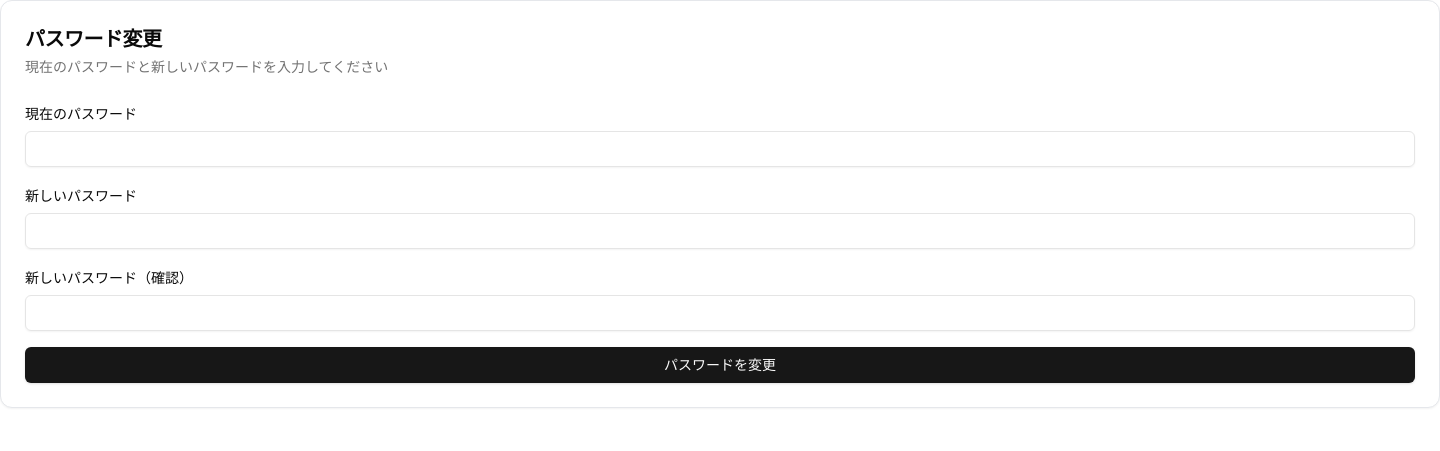
Test case: ChangePasswordForm › 新しいパスワードが数字のみの場合はエラーが表示される
Type "CurrentP1" into the password field labelled "現在のパスワード" at (720, 149), box [25,131,1415,167]
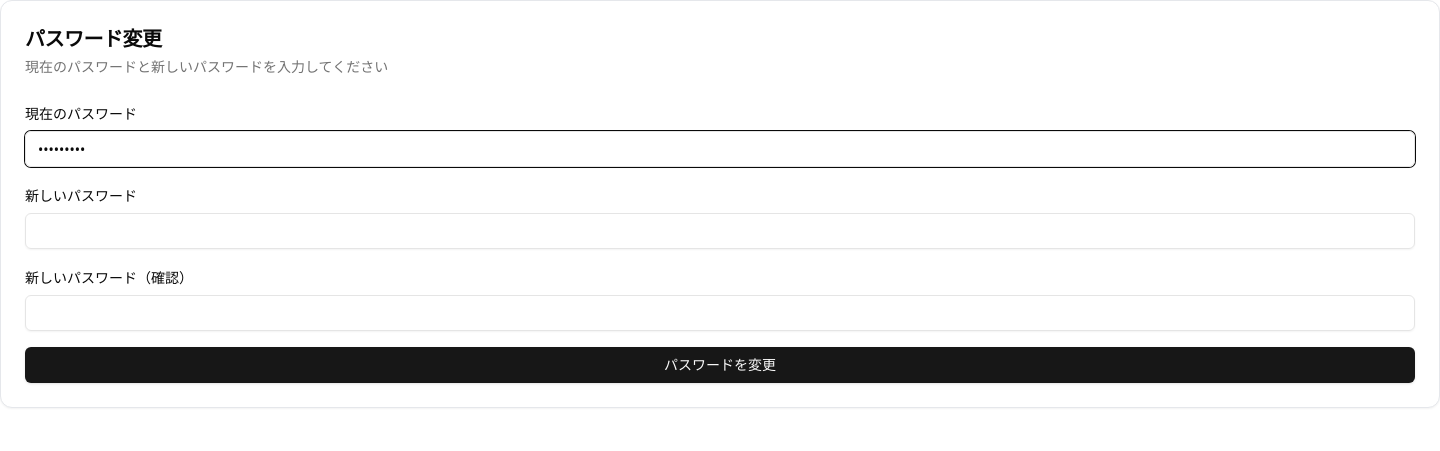
Type "12345678" into the password field labelled "新しいパスワード" at (720, 231), box [25,213,1415,249]
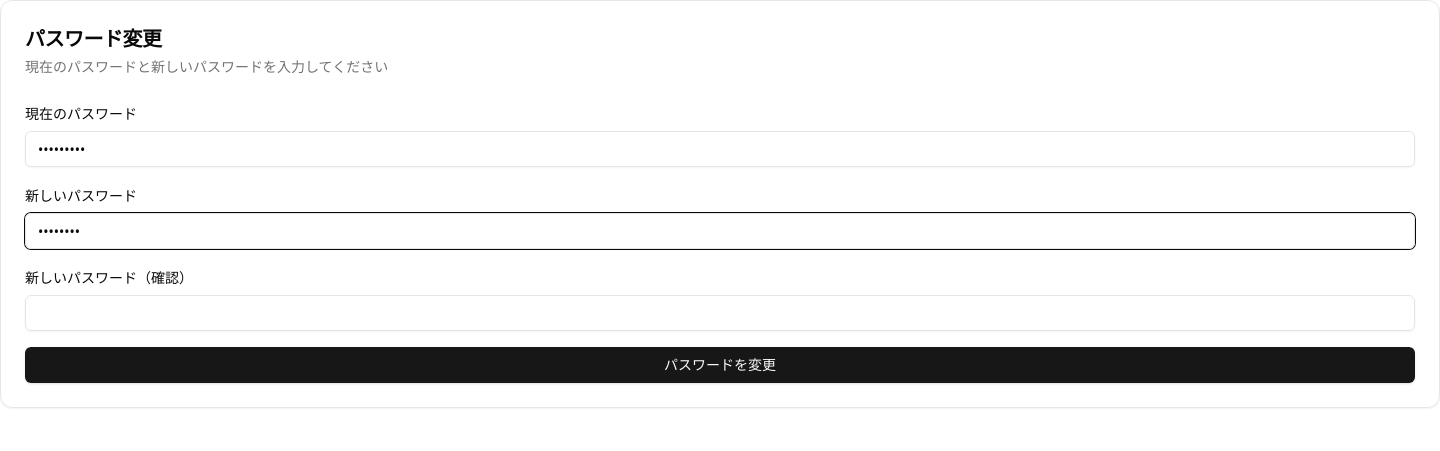
Type "12345678" into the password field labelled "新しいパスワード（確認）" at (720, 313), box [25,295,1415,331]
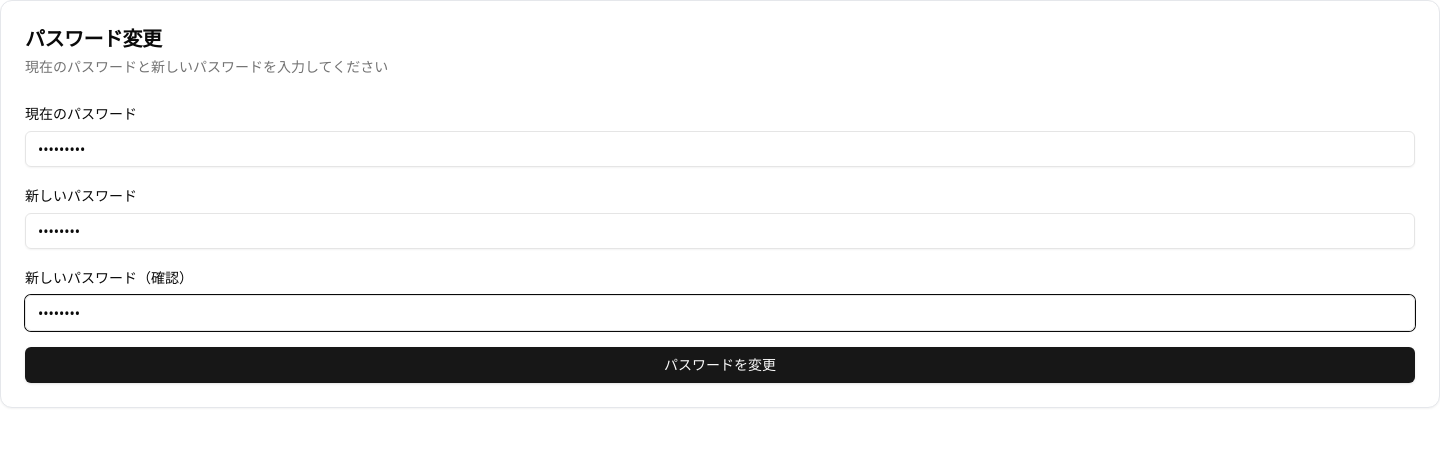
Click the button "パスワードを変更" at (720, 365), box [25,347,1415,383]
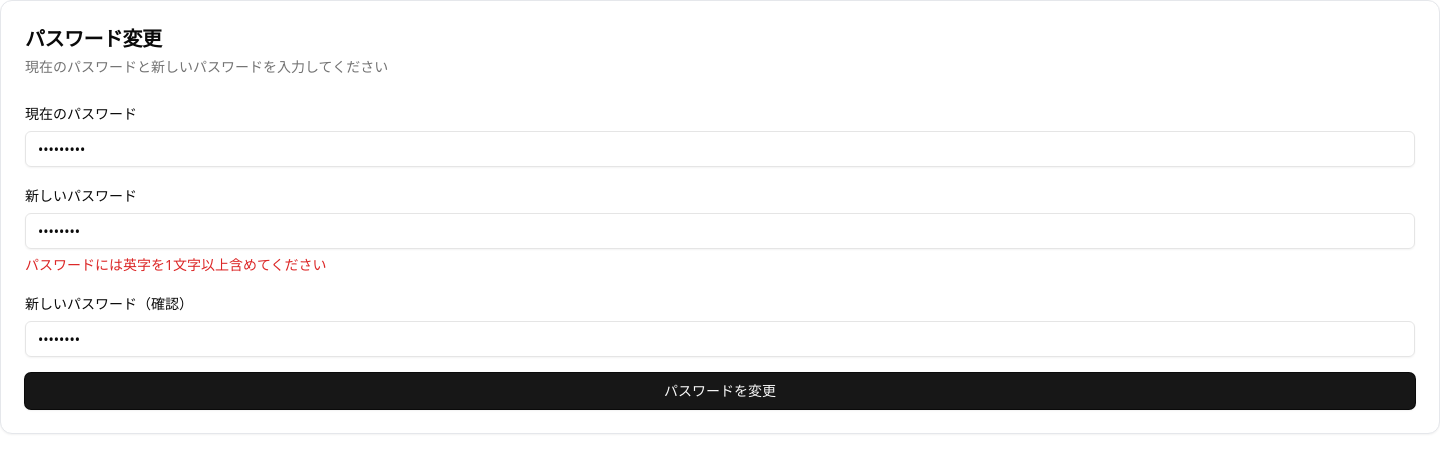
Expected: the text "パスワードには英字を1文字以上含めてください" is shown, [25,255,327,274]
